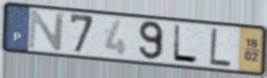4: (102, 18, 130, 58)
7: (68, 12, 96, 55)
9: (138, 19, 166, 62)
L: (171, 23, 199, 65), (208, 26, 233, 69)
N: (27, 9, 67, 52)
